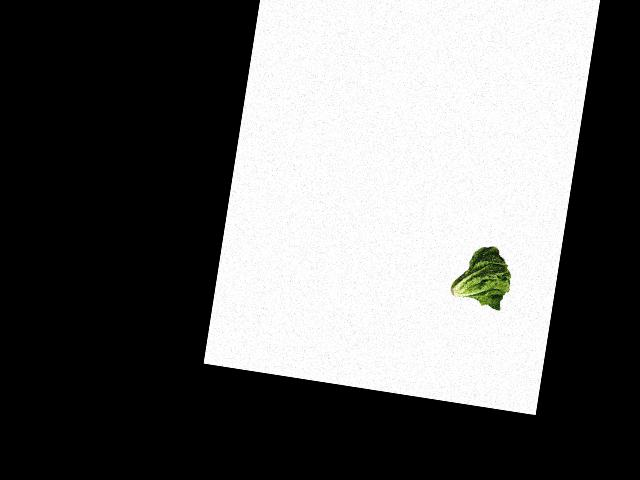lettuce: (445, 239, 518, 313)
